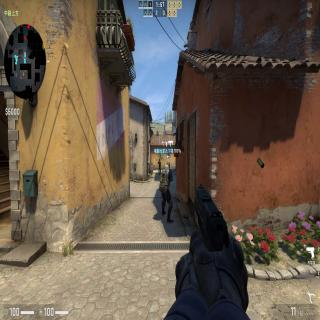CT-Body: (160, 162, 174, 224)
CT-Head: (166, 162, 170, 169)
